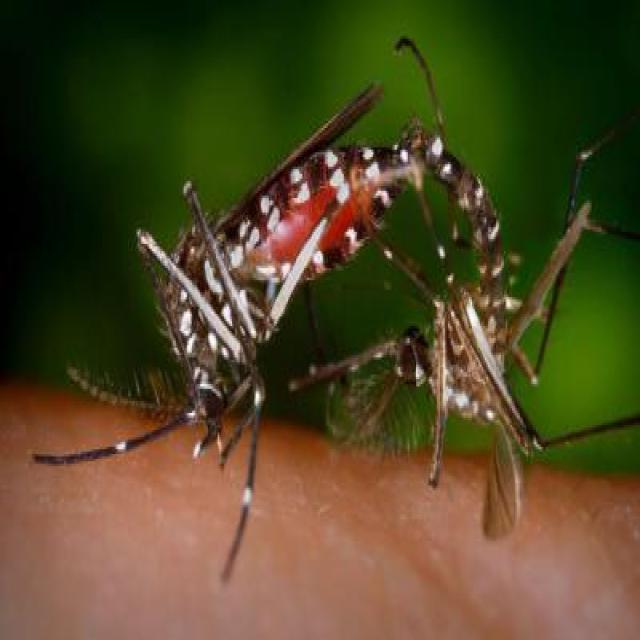antennae: (60, 352, 184, 428)
body: (169, 138, 394, 411), (409, 118, 508, 432)
insect: (29, 33, 413, 597), (398, 108, 638, 530)
legs: (513, 111, 640, 521), (26, 389, 219, 492), (220, 382, 286, 584)
wings: (198, 77, 380, 231), (500, 192, 590, 358)
